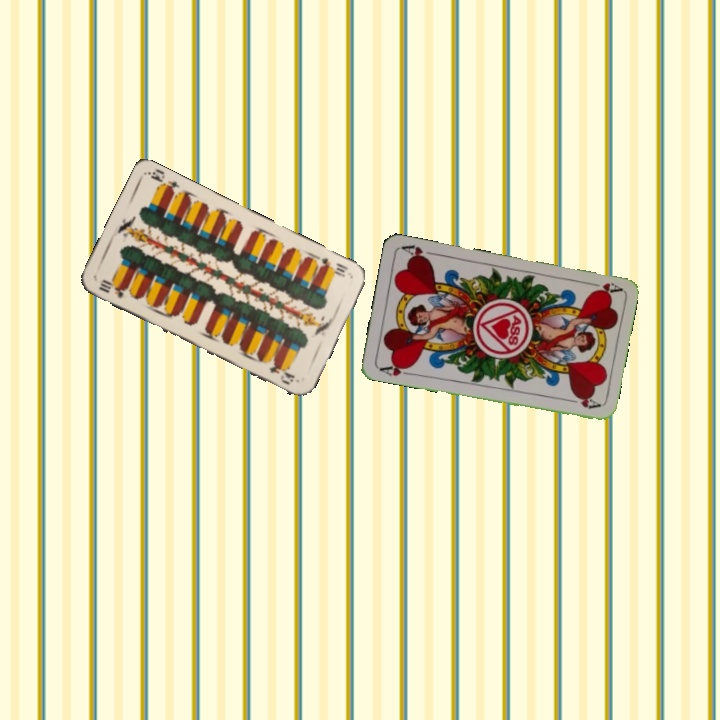E10: (95, 275, 133, 301), (316, 254, 351, 280)
HA: (375, 359, 415, 379), (583, 278, 623, 297)
